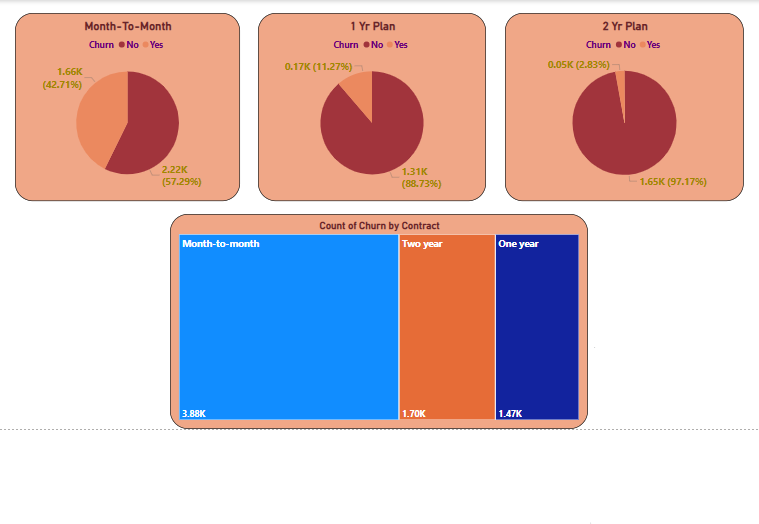

The page's visual inventory and layout, read from the dashboard file:
{"tool":"powerbi","page":{"name":"Page 3","canvas":[1280,720],"ordinal":2},"visuals":[{"type":"pieChart","title":"Month-To-Month","fields":{"Y":["CountNonNull(WA_Fn-UseC_-Telco-Customer-Churn.Contract)"],"Category":["WA_Fn-UseC_-Telco-Customer-Churn.Churn"]},"box":[28.6,21.8,378,315.8],"z":0},{"type":"pieChart","title":"1 Yr Plan","fields":{"Y":["CountNonNull(WA_Fn-UseC_-Telco-Customer-Churn.Contract)"],"Category":["WA_Fn-UseC_-Telco-Customer-Churn.Churn"]},"box":[436.7,21.8,383,315.8],"z":1000},{"type":"pieChart","title":"2 Yr Plan","fields":{"Y":["CountNonNull(WA_Fn-UseC_-Telco-Customer-Churn.Contract)"],"Category":["WA_Fn-UseC_-Telco-Customer-Churn.Churn"]},"box":[851.7,21.8,401.5,315.8],"z":2000},{"type":"treemap","fields":{"Details":["WA_Fn-UseC_-Telco-Customer-Churn.Contract"],"Values":["CountNonNull(WA_Fn-UseC_-Telco-Customer-Churn.Churn)"]},"box":[288.9,359.5,702.2,361.2],"z":2001}]}

Visuals, with their boxes in screenshot pixels (x1, y1, x2, y2):
"Month-To-Month" pieChart: [17, 15, 238, 199]
"1 Yr Plan" pieChart: [255, 15, 479, 199]
"2 Yr Plan" pieChart: [498, 15, 733, 199]
treemap - WA_Fn-UseC_-Telco-Customer-Churn.Contract x CountNonNull(WA_Fn-UseC_-Telco-Customer-Churn.Churn): [169, 212, 580, 423]
